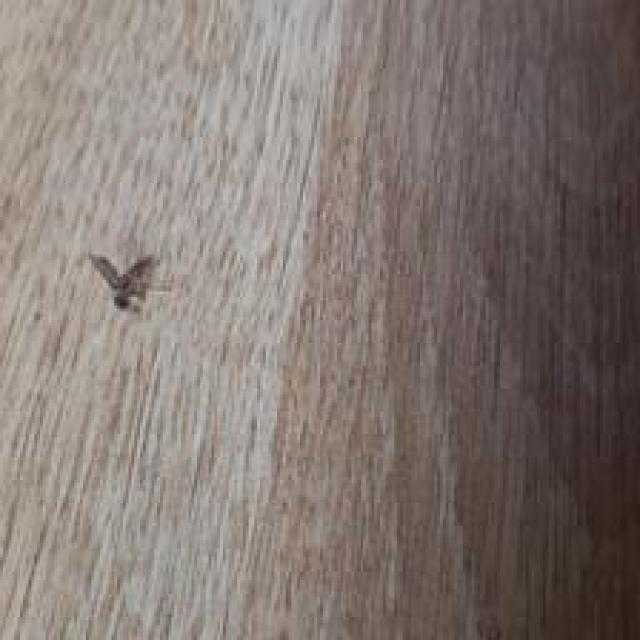Culex: (87, 250, 167, 313)
